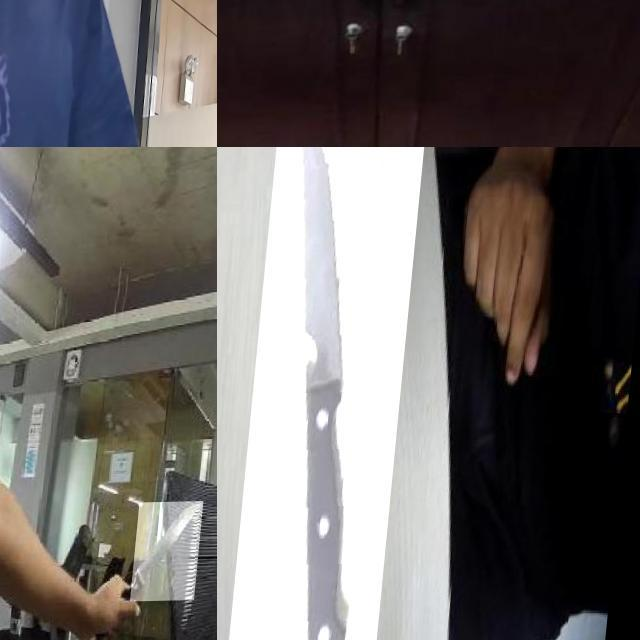-: (237, 147, 427, 640), (141, 503, 213, 603)
gun-knife-thesis - v11 Yolov5 augmented: (0, 0, 47, 107)
